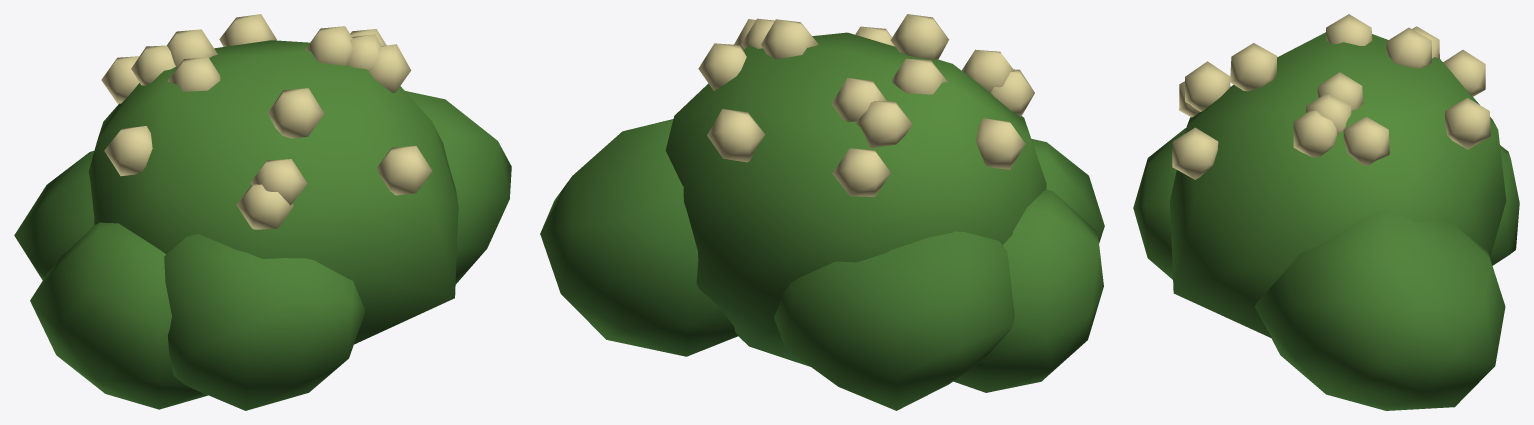
File: shrub-flowering-1.glb
3 views of the same model, side by side, from view 1: azimuth 30°, elevation 25°; view 2: azimuth 150°, elevation 25°; view 3: azimuth 270°, elevation 25° (orthographic). The views are drawn at different scales.
Visible parts, largest first — view 1: leaf; view 2: leaf; view 3: leaf.
Boxes of the visible parts, x1,y1,x2,y2 form: leaf: (14,14,511,410); leaf: (540,14,1104,410); leaf: (1133,14,1519,410).
Size of the model in its own units: 1.79 by 1.16 by 1.3.
